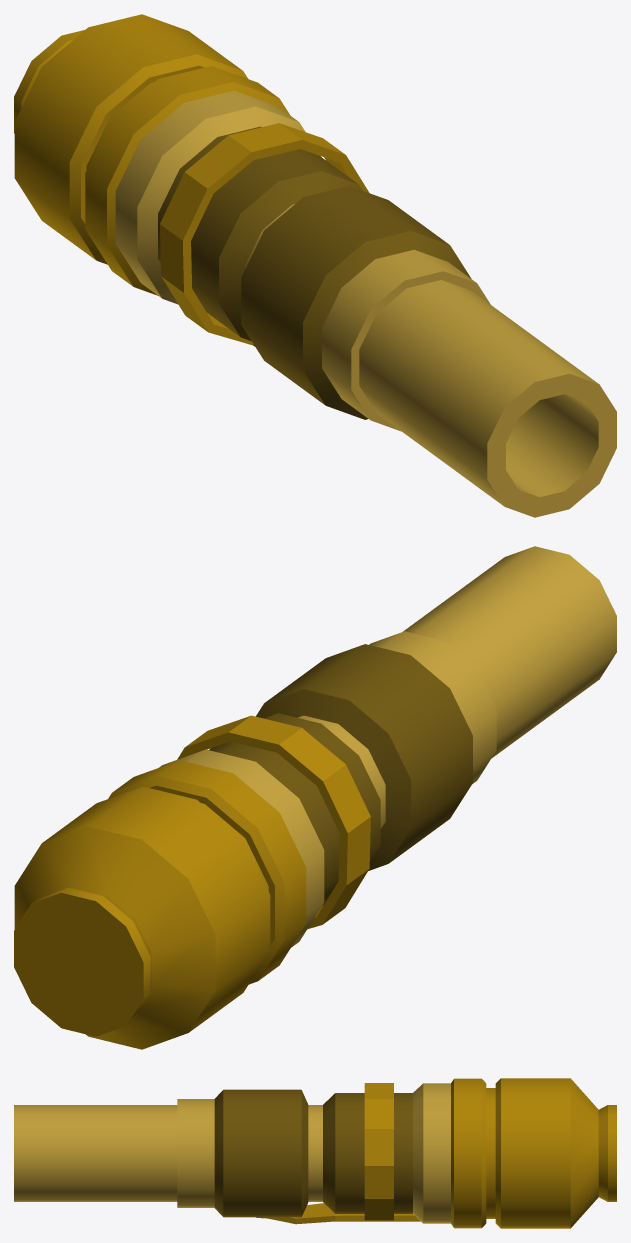
The model's file is BingusBongusTurret.fbx.
3 renders of one model, top to bottom at view 1: azimuth 30°, elevation 25°; view 2: azimuth 150°, elevation 25°; view 3: azimuth 270°, elevation 25°, orthographic. The views are drawn at different scales.
Visible parts, largest first — view 1: front_006, front_simple, front_001; view 2: front_001, front_006, front_simple; view 3: front_006, front_001, front_simple.
Boxes of the visible parts, x1,y1,x2,y2 form: front_006: [115, 90, 490, 431]; front_simple: [245, 204, 616, 517]; front_001: [14, 14, 290, 295]; front_001: [14, 760, 306, 1049]; front_006: [159, 631, 496, 947]; front_simple: [300, 546, 616, 828]; front_006: [177, 1083, 450, 1224]; front_001: [451, 1078, 616, 1228]; front_simple: [14, 1105, 322, 1201].
Size of the model in its own units: 8.08 by 8.08 by 33.
